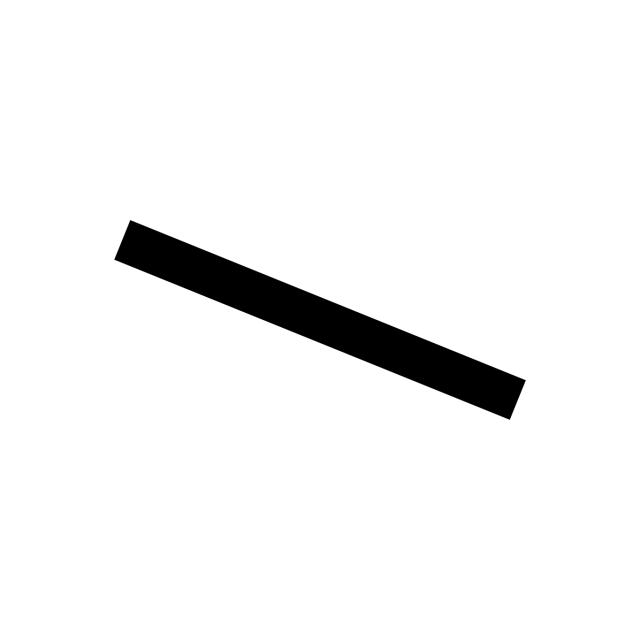line: (114, 220, 526, 420)
